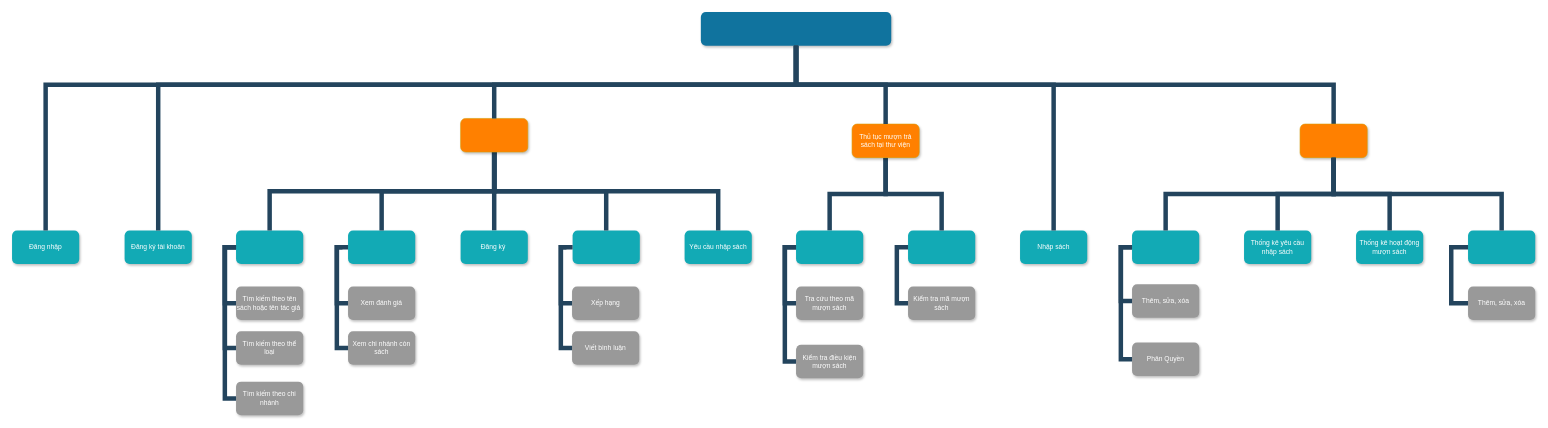
Some shapes in this 1548 by 428 pixel diagram are drawn without their labels. Each missing label, with the centre of its shape:
"Mượn sách" goes at [830,248].
"Open Library Project" goes at [796,29].
"Quản lý hệ thống" goes at [1334,141].
"Quản lý người dùng" goes at [1166,248].
"Quản lý sách" goes at [1502,248].
"Trả sách" goes at [942,248].
"Tìm kiếm sách" goes at [270,248].
"Xem thông tin cuốn sách" goes at [382,248].
"Đánh giá sách" goes at [606,248].
"Đăng ký mượn sách online" goes at [494,136].
